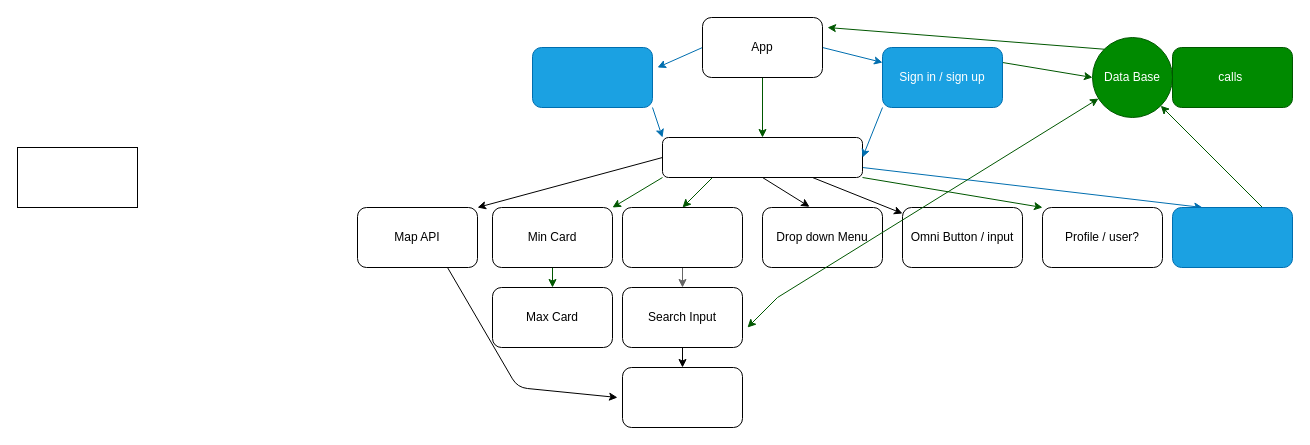
Some shapes in this 1310 by 445 pixel diagram are drawn without their labels. The centre of each missing label's shape, as x and y in pixels:
"Create Card" goes at (1232,237).
"Front end" goes at (762,157).
"Landing page" goes at (592,77).
"Nav" goes at (682,237).
"Search Button" goes at (682,397).
